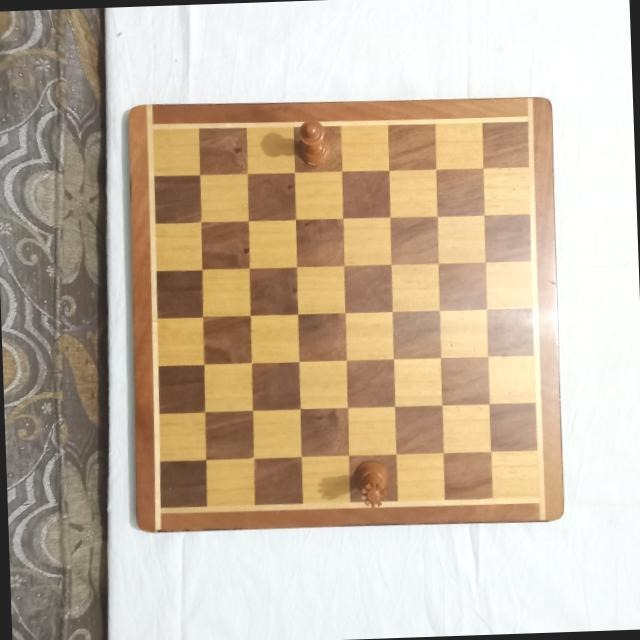white-king: (294, 117, 333, 166)
white-queen: (350, 460, 390, 511)
